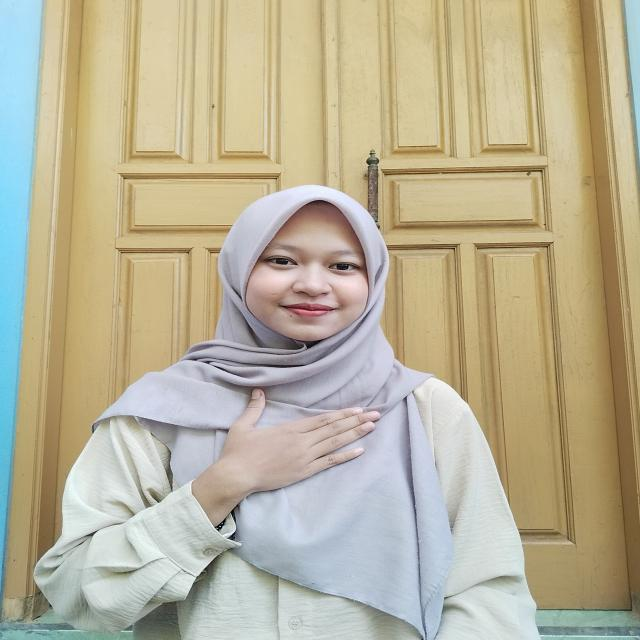tolong: (183, 388, 391, 524)
